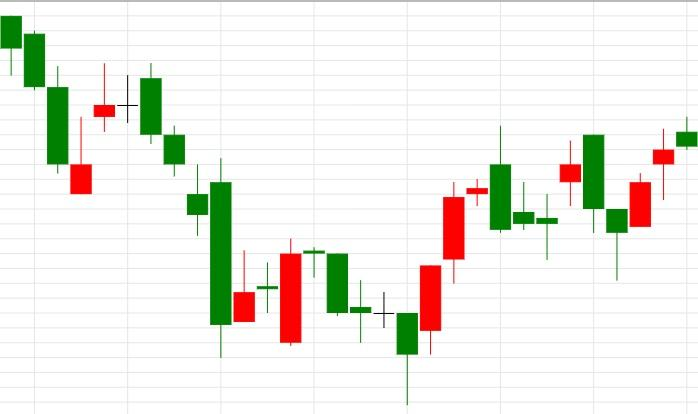hammer_rise: (303, 246, 418, 405)
inverse_hammer_rise: (118, 64, 255, 358), (1, 16, 92, 195)
three_white_soldiers_rise: (303, 179, 488, 405)
